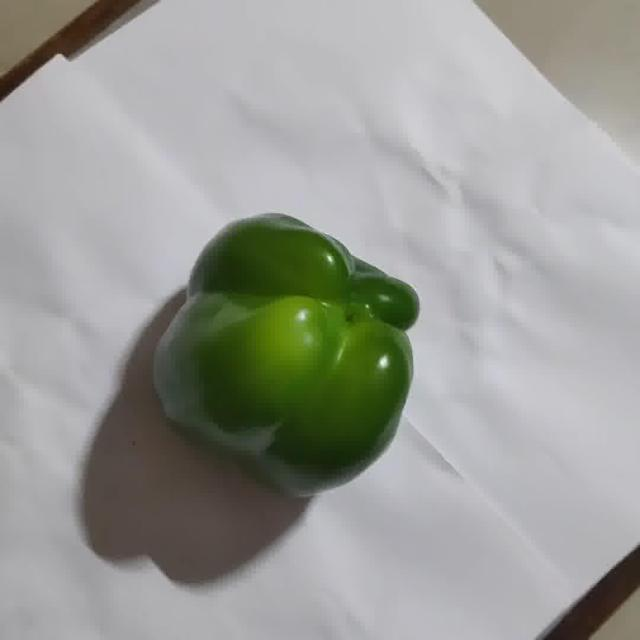Bell Pepper: (153, 214, 418, 500)
